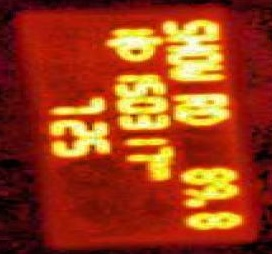-: (176, 197, 209, 208)
0: (109, 95, 168, 114)
1: (102, 26, 155, 35), (117, 136, 170, 145), (109, 72, 160, 81)
2: (46, 118, 107, 136)
3: (112, 114, 170, 130)
5: (46, 136, 109, 157), (109, 81, 165, 95)
7: (43, 95, 107, 114), (117, 146, 175, 160)
8: (183, 208, 241, 231), (176, 166, 237, 183)
9: (175, 183, 239, 197)
X: (160, 33, 224, 51), (165, 63, 224, 81), (170, 109, 231, 125), (158, 18, 221, 33), (170, 92, 229, 108), (163, 51, 224, 63), (143, 169, 171, 180), (142, 160, 173, 169)
